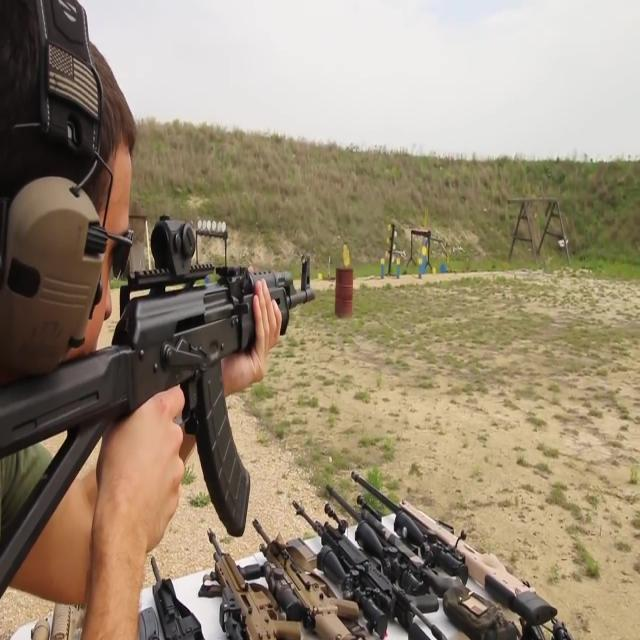Weapon: (1, 202, 334, 570), (20, 445, 581, 640)
